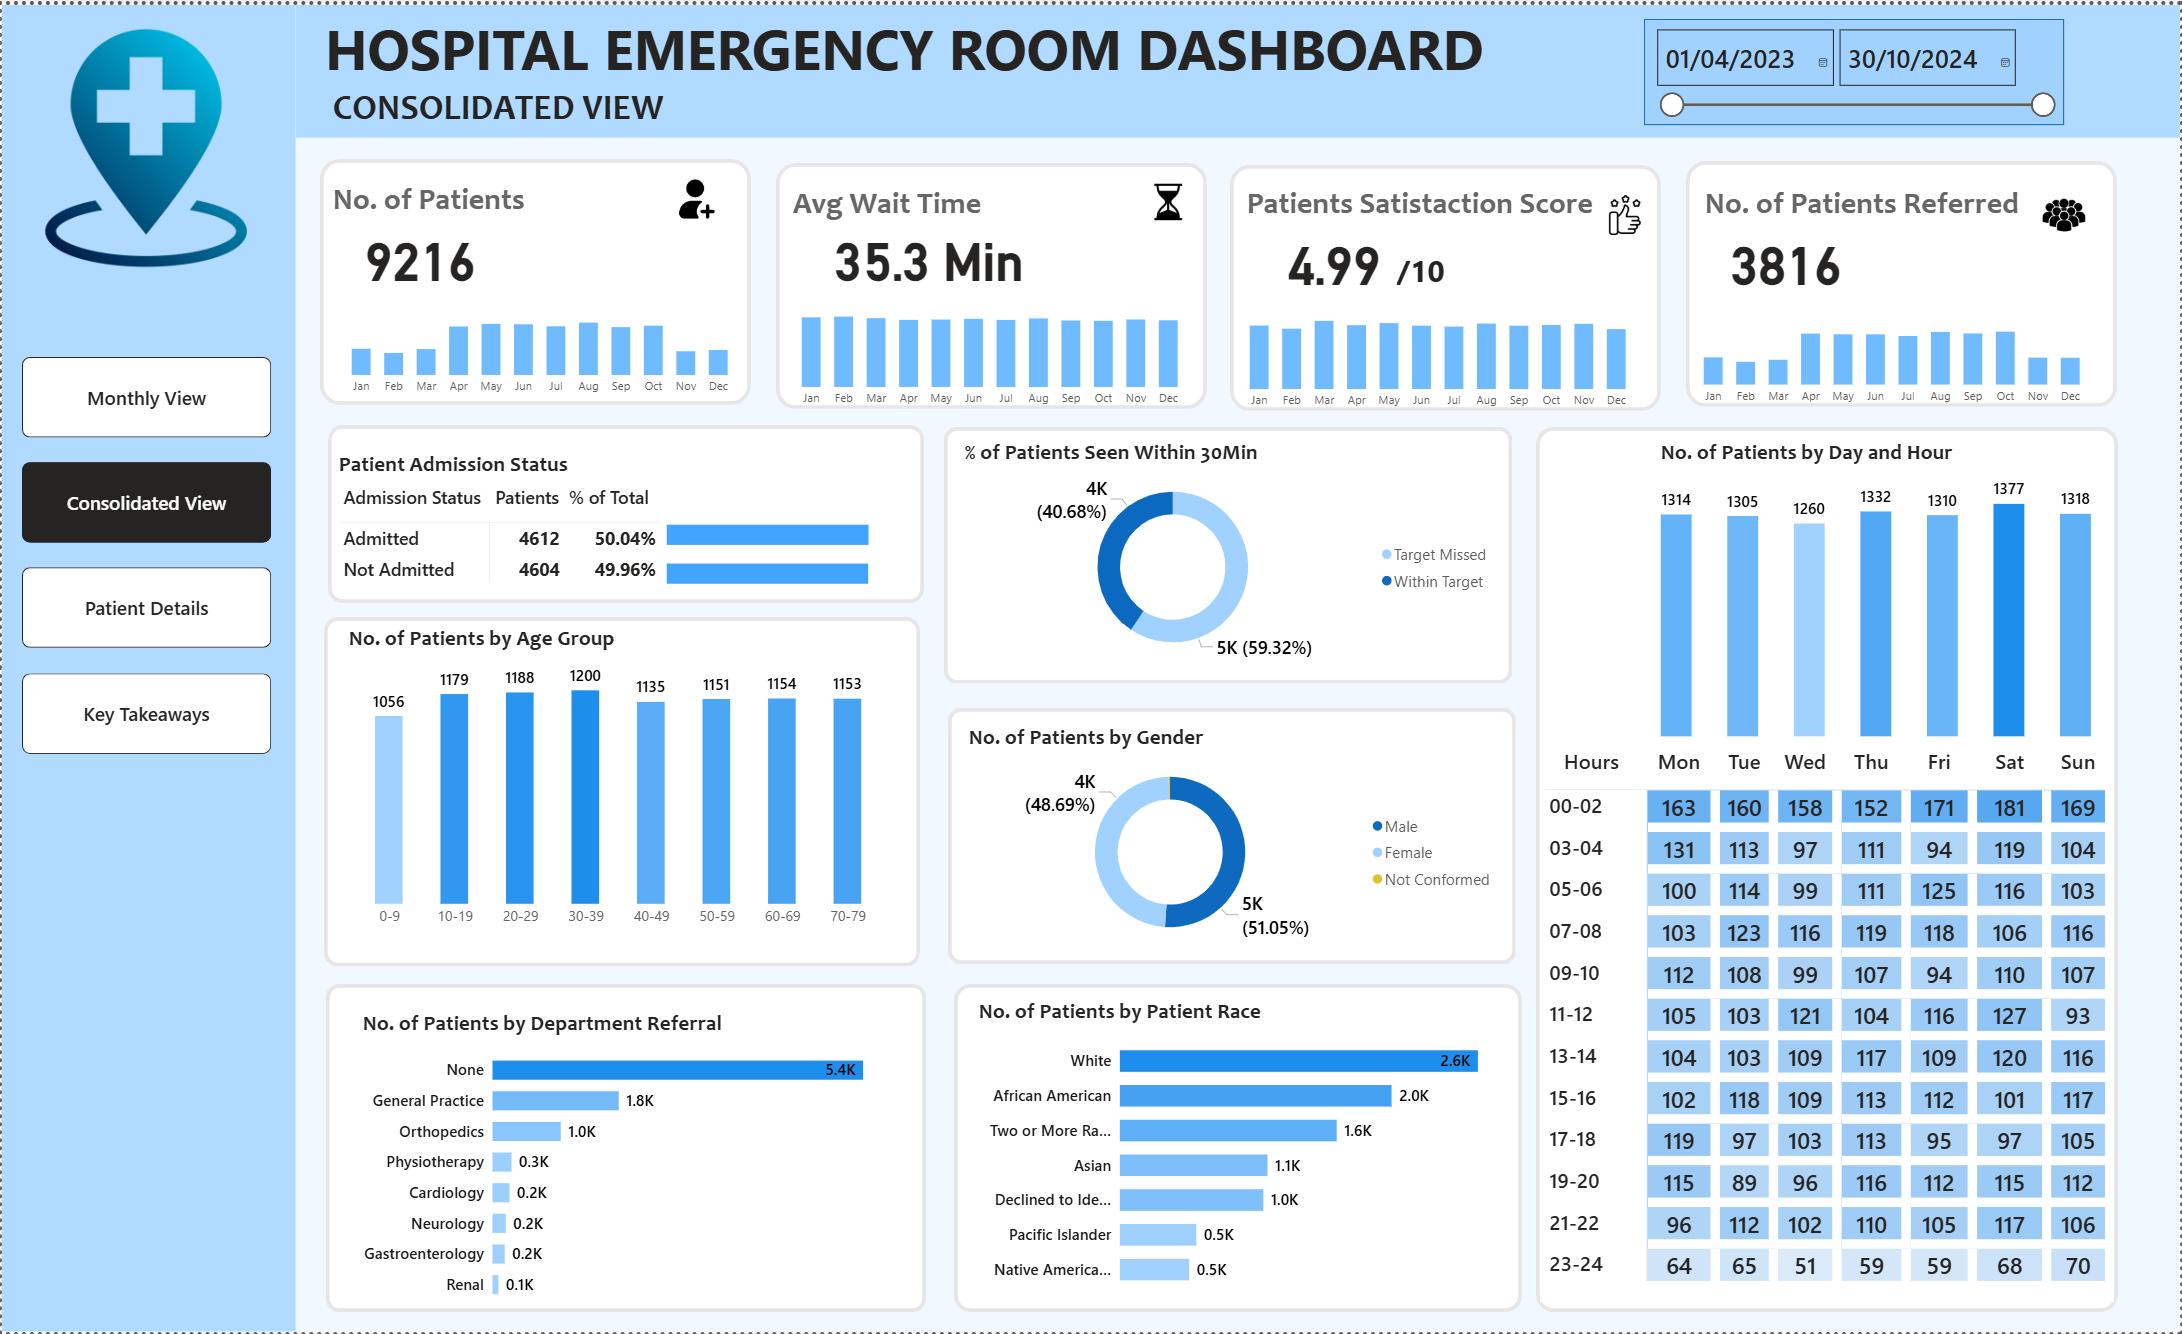

This screenshot's page, from the dashboard's own definition file:
{"tool":"powerbi","page":{"name":"Consolidated View","canvas":[2300,1400],"ordinal":1},"visuals":[{"type":"shape","box":[0,0,310,1399.4],"z":0},{"type":"shape","box":[309.4,0,1990.6,140],"z":1000},{"type":"textbox","box":[334.8,0,1283.9,92.4],"z":2000},{"type":"textbox","box":[344.2,80.2,388.5,59.1],"z":3000},{"type":"shape","box":[335.7,162.6,455,259.7],"z":4000},{"type":"card","fields":{"Values":["Hospital ER_Data.No. of Patients"]},"box":[365.3,213.3,152,101.4],"z":5000},{"type":"slicer","fields":{"Values":["Date Table.Date"]},"box":[1733.6,14.8,443.4,111.9],"z":6000},{"type":"textbox","box":[344.2,179.5,223.8,65.5],"z":7000},{"type":"columnChart","fields":{"Y":["Hospital ER_Data.No. of Patients"],"Category":["Date Table.Month Name"]},"box":[350.5,295.6,435,125],"z":8000},{"type":"shape","box":[816.5,166.4,455,259.7],"z":9000},{"type":"card","fields":{"Values":["Hospital ER_Data.Avg Wait Time"]},"box":[857.3,213.3,242.8,101.4],"z":10000},{"type":"textbox","box":[829.9,183.7,223.8,65.5],"z":11000},{"type":"columnChart","fields":{"Y":["Avg(Hospital ER_Data.Patient Waittime)"],"Category":["Date Table.Month Name"]},"box":[825.6,308.3,435,125],"z":12000},{"type":"shape","box":[1297.2,168.4,455,259.7],"z":13000},{"type":"card","fields":{"Values":["Avg(Hospital ER_Data.Patient Satisfaction Score)"]},"box":[1330.3,217.5,152,101.4],"z":14000},{"type":"textbox","box":[1309.2,183.7,394.9,61.2],"z":15000},{"type":"columnChart","fields":{"Y":["Avg(Hospital ER_Data.Patient Satisfaction Score)"],"Category":["Date Table.Month Name"]},"box":[1298.6,310.4,435,125],"z":16000},{"type":"shape","box":[1778,164.5,455,259.7],"z":17000},{"type":"card","fields":{"Values":["Hospital ER_Data.No. of Patient Referred"]},"box":[1808,216.9,152,101.4],"z":18000},{"type":"shape","box":[344.2,443.4,629.3,187.9],"z":19000},{"type":"textbox","box":[1792.8,183.7,399.1,65.5],"z":20000},{"type":"columnChart","fields":{"Y":["Hospital ER_Data.No. of Patient Referred"],"Category":["Date Table.Month Name"]},"box":[1778,306.2,435,124.6],"z":21000},{"type":"pivotTable","title":"Patient Admission Status","fields":{"Rows":["Hospital ER_Data.Admission Status"],"Values":["Hospital ER_Data.No. of Patients1","Hospital ER_Data.No. of Patients"]},"box":[350.5,470.4,356.9,152],"z":22000},{"type":"barChart","fields":{"Category":["Hospital ER_Data.Admission Status"],"Y":["Hospital ER_Data.No. of Patients"]},"box":[696.8,514.8,287.2,124.6],"z":23000},{"type":"shape","box":[340,646.5,629.3,368],"z":24000},{"type":"clusteredColumnChart","fields":{"Category":["Hospital ER_Data.Age Group"],"Y":["Hospital ER_Data.No. of Patients"]},"box":[361.1,654.3,580.7,327.3],"z":25000},{"type":"shape","box":[342.1,1032.6,633.5,346.3],"z":26000},{"type":"clusteredBarChart","fields":{"Category":["Hospital ER_Data.Department Referral"],"Y":["Hospital ER_Data.No. of Patients"]},"box":[375.9,1060,565.9,318.9],"z":27000},{"type":"shape","box":[994.6,445.6,600,270],"z":28000},{"type":"donutChart","title":"% of Patients Seen Within 30Min","fields":{"Category":["Hospital ER_Data.Waittime Status"],"Y":["Hospital ER_Data.No. of Patients"]},"box":[1011.5,458.2,570.1,242.8],"z":29000},{"type":"shape","box":[998.8,741.2,599.7,270.3],"z":30000},{"type":"donutChart","title":"No. of Patients by Gender ","fields":{"Y":["Hospital ER_Data.No. of Patients"],"Category":["Hospital ER_Data.Patient Gender"]},"box":[1016.2,757.5,570.1,242.8],"z":31000},{"type":"shape","box":[1005.1,1032.6,599.7,346.3],"z":32000},{"type":"clusteredBarChart","fields":{"Y":["Hospital ER_Data.No. of Patients"],"Category":["Hospital ER_Data.Patient Race"]},"box":[1026.2,1047.4,565.9,318.9],"z":33000},{"type":"shape","box":[1619.6,445.6,614.5,933.3],"z":34000},{"type":"pivotTable","fields":{"Rows":["Hospital ER_Data.Waittime Interval"],"Columns":["Date Table.Day Name"],"Values":["Hospital ER_Data.No. of Patients"]},"box":[1623.8,777.1,606,591.3],"z":35000},{"type":"columnChart","title":"No. of Patients by Day and Hour","fields":{"Category":["Date Table.Day Name"],"Y":["Hospital ER_Data.No. of Patients"]},"box":[1746.3,458.2,466.7,318.9],"z":36000},{"type":"image","box":[21.1,19,261.8,264],"z":37000},{"type":"image","box":[696.8,177.4,69.7,54.9],"z":38000},{"type":"image","box":[1201.5,183.7,59.1,48.6],"z":39000},{"type":"image","box":[1683,194.3,61.2,54.9],"z":40000},{"type":"image","box":[2147.5,194.3,59.1,54.9],"z":41000},{"type":"textbox","box":[1467.6,253.4,76,54.9],"z":42000},{"type":"pageNavigator","box":[21.1,371.6,264,420.2],"z":43000}]}

Visuals, with their boxes in screenshot pixels (x1, y1, x2, y2), scaled from the page's 2300x1400 canvas onto the 2182x1334 screenshot:
shape: box=[0, 0, 294, 1333]
shape: box=[294, 0, 2181, 133]
textbox: box=[318, 0, 1536, 88]
textbox: box=[327, 76, 695, 133]
shape: box=[318, 155, 750, 402]
card - Hospital ER_Data.No. of Patients: box=[347, 203, 491, 300]
slicer - Date Table.Date: box=[1645, 14, 2065, 121]
textbox: box=[327, 171, 539, 233]
columnChart - Hospital ER_Data.No. of Patients x Date Table.Month Name: box=[333, 282, 745, 401]
shape: box=[775, 159, 1206, 406]
card - Hospital ER_Data.Avg Wait Time: box=[813, 203, 1044, 300]
textbox: box=[787, 175, 1000, 237]
columnChart - Avg(Hospital ER_Data.Patient Waittime) x Date Table.Month Name: box=[783, 294, 1196, 413]
shape: box=[1231, 160, 1662, 408]
card - Avg(Hospital ER_Data.Patient Satisfaction Score): box=[1262, 207, 1406, 304]
textbox: box=[1242, 175, 1617, 233]
columnChart - Avg(Hospital ER_Data.Patient Satisfaction Score) x Date Table.Month Name: box=[1232, 296, 1645, 415]
shape: box=[1687, 157, 2118, 404]
card - Hospital ER_Data.No. of Patient Referred: box=[1715, 207, 1859, 303]
shape: box=[327, 422, 924, 602]
textbox: box=[1701, 175, 2079, 237]
columnChart - Hospital ER_Data.No. of Patient Referred x Date Table.Month Name: box=[1687, 292, 2099, 410]
"Patient Admission Status" pivotTable: box=[333, 448, 671, 593]
barChart - Hospital ER_Data.Admission Status x Hospital ER_Data.No. of Patients: box=[661, 491, 934, 609]
shape: box=[323, 616, 920, 967]
clusteredColumnChart - Hospital ER_Data.Age Group x Hospital ER_Data.No. of Patients: box=[343, 623, 893, 935]
shape: box=[325, 984, 926, 1314]
clusteredBarChart - Hospital ER_Data.Department Referral x Hospital ER_Data.No. of Patients: box=[357, 1010, 893, 1314]
shape: box=[944, 425, 1513, 682]
"% of Patients Seen Within 30Min" donutChart: box=[960, 437, 1500, 668]
shape: box=[948, 706, 1516, 964]
"No. of Patients by Gender " donutChart: box=[964, 722, 1505, 953]
shape: box=[954, 984, 1522, 1314]
clusteredBarChart - Hospital ER_Data.No. of Patients x Hospital ER_Data.Patient Race: box=[974, 998, 1510, 1302]
shape: box=[1537, 425, 2119, 1314]
pivotTable - Hospital ER_Data.Waittime Interval x Date Table.Day Name: box=[1540, 740, 2115, 1304]
"No. of Patients by Day and Hour" columnChart: box=[1657, 437, 2099, 740]
image: box=[20, 18, 268, 270]
image: box=[661, 169, 727, 221]
image: box=[1140, 175, 1196, 221]
image: box=[1597, 185, 1655, 237]
image: box=[2037, 185, 2093, 237]
textbox: box=[1392, 241, 1464, 294]
pageNavigator: box=[20, 354, 270, 754]
